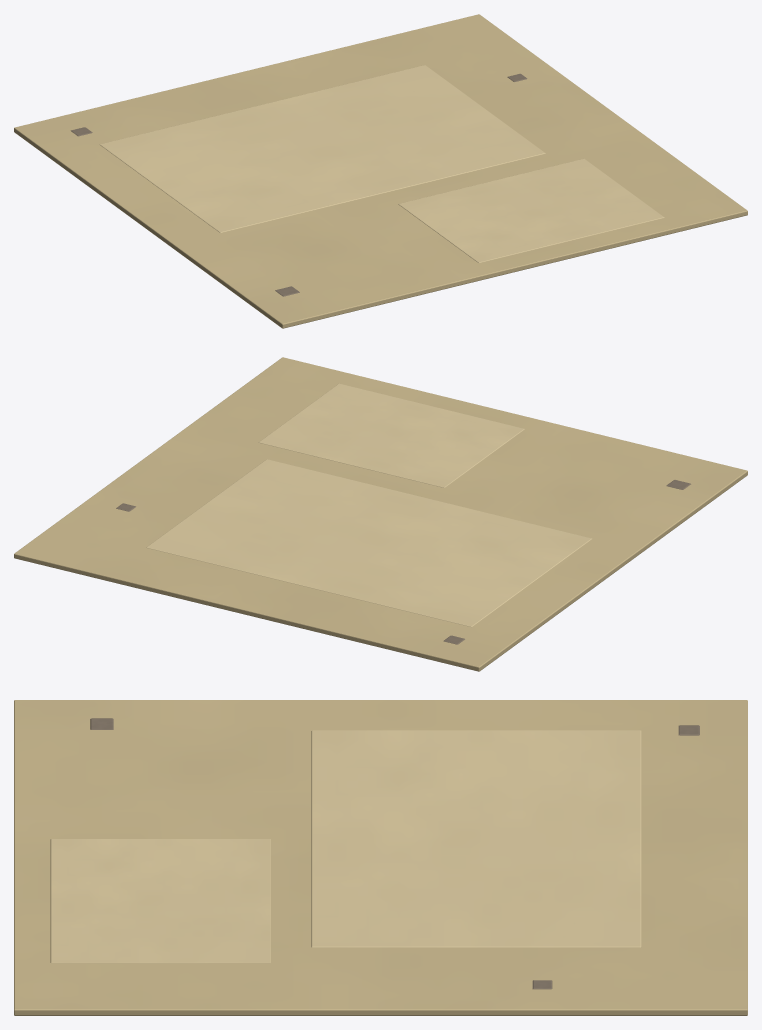
Rendered from road_sand.glb.
3 renders of one model, top to bottom at view 1: azimuth 30°, elevation 25°; view 2: azimuth 150°, elevation 25°; view 3: azimuth 270°, elevation 25°, orthographic. The views are drawn at different scales.
Visible parts, largest first — view 1: road_sand_field, road_sand_tone_a, road_sand_tone_b; view 2: road_sand_field, road_sand_tone_a, road_sand_tone_b; view 3: road_sand_field, road_sand_tone_a, road_sand_tone_b.
Part boxes in pixels (x1,y1,x2,y2): road_sand_field: (14,14,747,328); road_sand_tone_a: (99,65,545,232); road_sand_tone_b: (398,158,664,262); road_sand_field: (14,357,747,671); road_sand_tone_a: (146,459,591,627); road_sand_tone_b: (258,383,524,487); road_sand_field: (14,700,747,1015); road_sand_tone_a: (311,730,641,947); road_sand_tone_b: (50,839,270,963).
Size of the model in its own units: 4 by 0.044 by 4.
3 materials, 3 textured.
